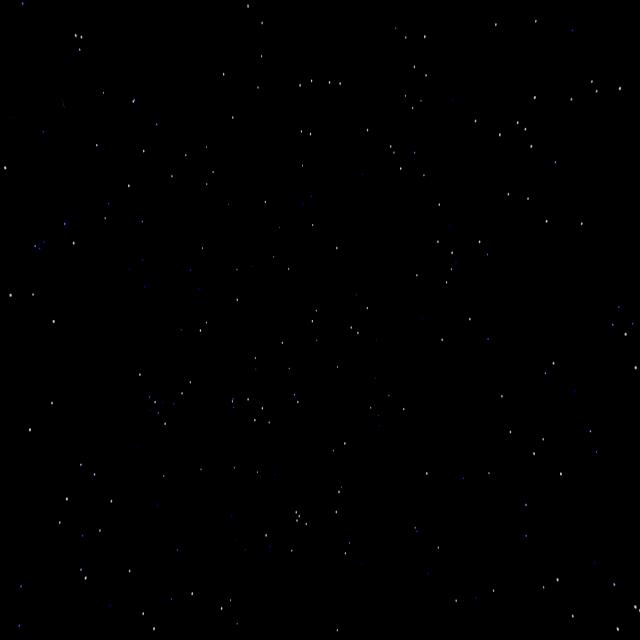satellite: (0, 63, 134, 209)
